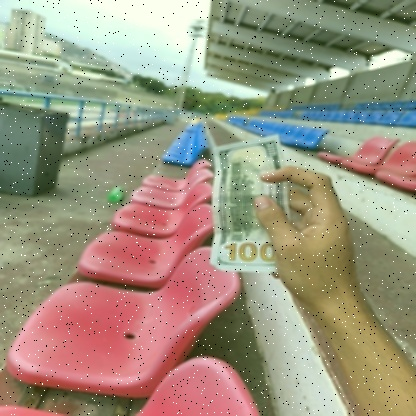one_hundred-back: (207, 132, 302, 274)
